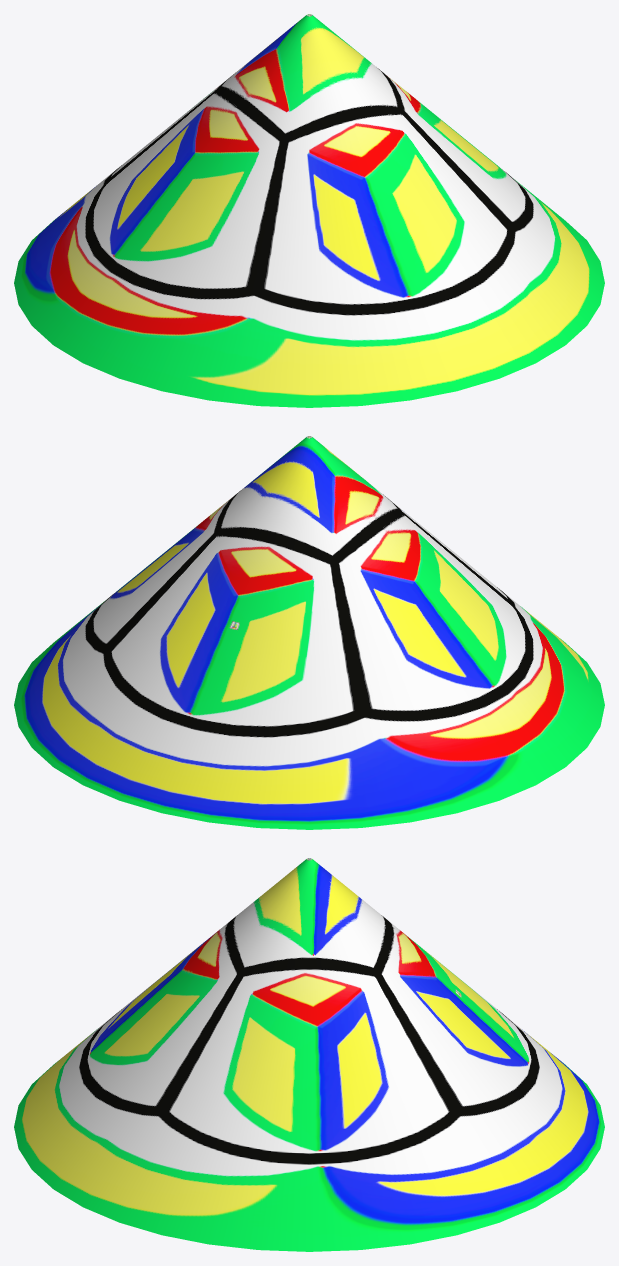
3 views of the same model, one above another, from view 1: azimuth 30°, elevation 25°; view 2: azimuth 150°, elevation 25°; view 3: azimuth 270°, elevation 25° (orthographic).
Parts seen in each view (by area): view 1: scene(21).glb; view 2: scene(21).glb; view 3: scene(21).glb.
Boxes of the visible parts, left/top/right/bottom form: scene(21).glb: left=14, top=14, right=604, bottom=407; scene(21).glb: left=14, top=436, right=604, bottom=829; scene(21).glb: left=14, top=858, right=604, bottom=1251.
Bounding box in the file's own units: 2 × 1 × 2.
1 material, 1 textured.
